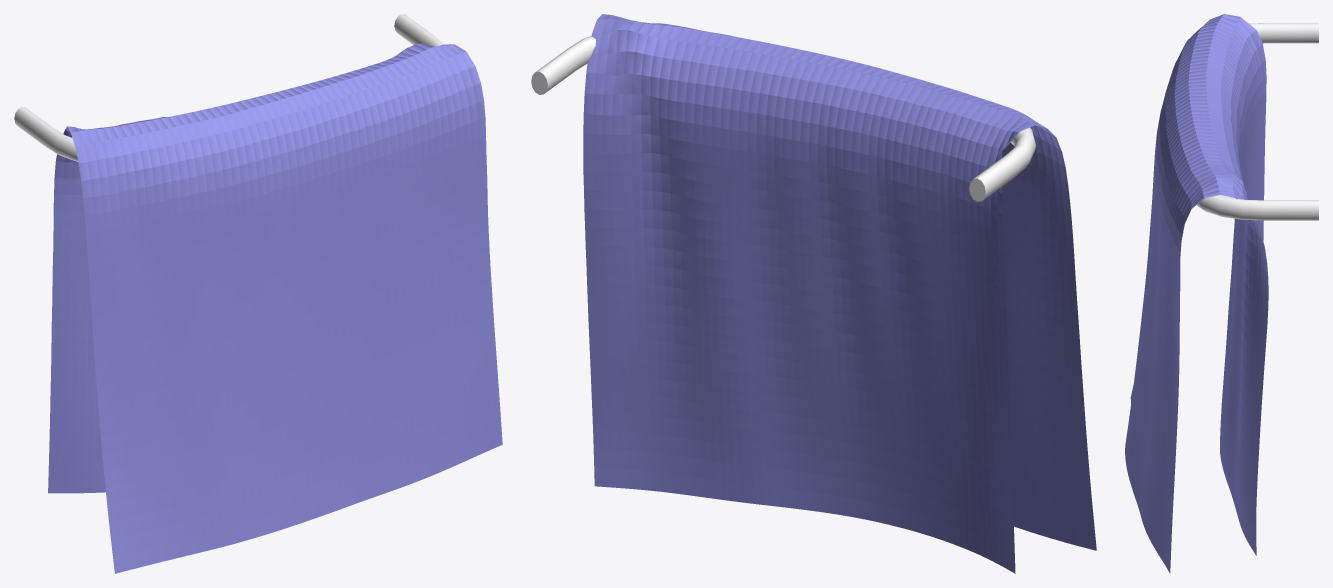
The model's file is TowelOnRack001.FBX.
The picture shows the model from 3 angles, left to right: view 1: azimuth 30°, elevation 25°; view 2: azimuth 150°, elevation 25°; view 3: azimuth 270°, elevation 25°; orthographic projection. The views are drawn at different scales.
Visible parts, largest first — view 1: TowelOnRack001, TowelRack001; view 2: TowelOnRack001, TowelRack001; view 3: TowelOnRack001, TowelRack001.
Boxes of the visible parts, left/top/right/bottom form: TowelOnRack001: left=48, top=43, right=502, bottom=573; TowelRack001: left=14, top=14, right=443, bottom=161; TowelOnRack001: left=583, top=14, right=1096, bottom=573; TowelRack001: left=531, top=36, right=1035, bottom=201; TowelOnRack001: left=1125, top=14, right=1268, bottom=573; TowelRack001: left=1196, top=23, right=1318, bottom=220.
Size of the model in its own units: 41.75 by 39.33 by 17.84.
